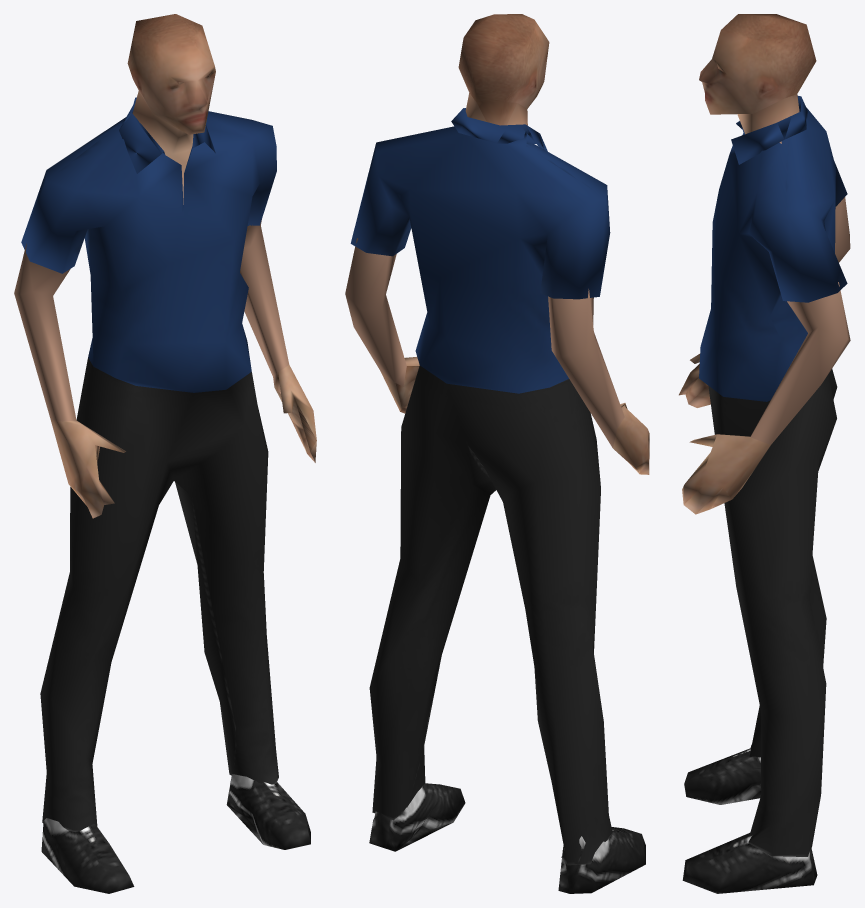
Rendered from LOW_Crew01_TEAM4_TW.fbx.
The picture shows the model from 3 angles, left to right: view 1: azimuth 30°, elevation 25°; view 2: azimuth 150°, elevation 25°; view 3: azimuth 270°, elevation 25°; orthographic projection.
Visible parts, largest first — view 1: LOW_Crew01_TEAM4_TW; view 2: LOW_Crew01_TEAM4_TW; view 3: LOW_Crew01_TEAM4_TW.
Part boxes in pixels (bbox=[...]): LOW_Crew01_TEAM4_TW: bbox=[14, 14, 316, 893]; LOW_Crew01_TEAM4_TW: bbox=[345, 14, 649, 893]; LOW_Crew01_TEAM4_TW: bbox=[679, 14, 850, 893].
Size of the model in its own units: 54.17 by 179 by 33.92.
